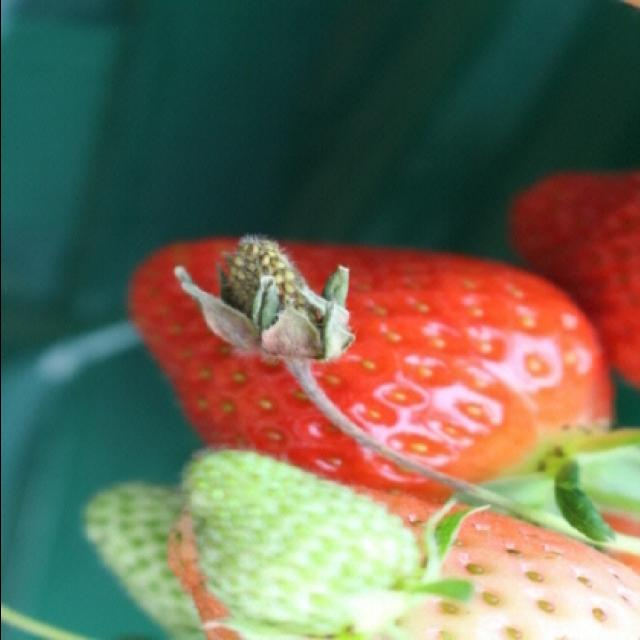Gray Mold: (173, 233, 357, 408)
